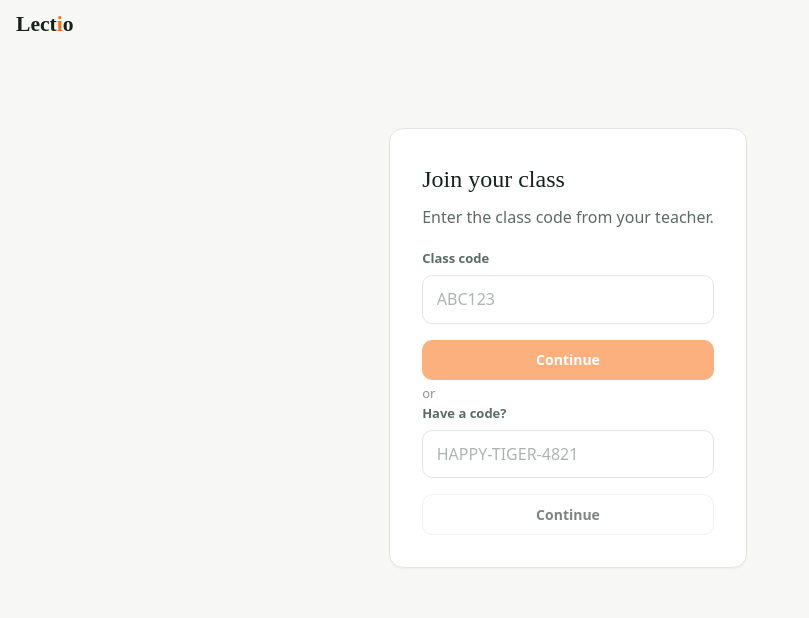
JoinClass code resume › shows a generic message on 404
Type "NOPE-AAAA" into the field with placeholder "HAPPY-TIGER-4821".
click(568, 454); type("NOPE-AAAA")  # box x1=422 y1=430 x2=714 y2=478
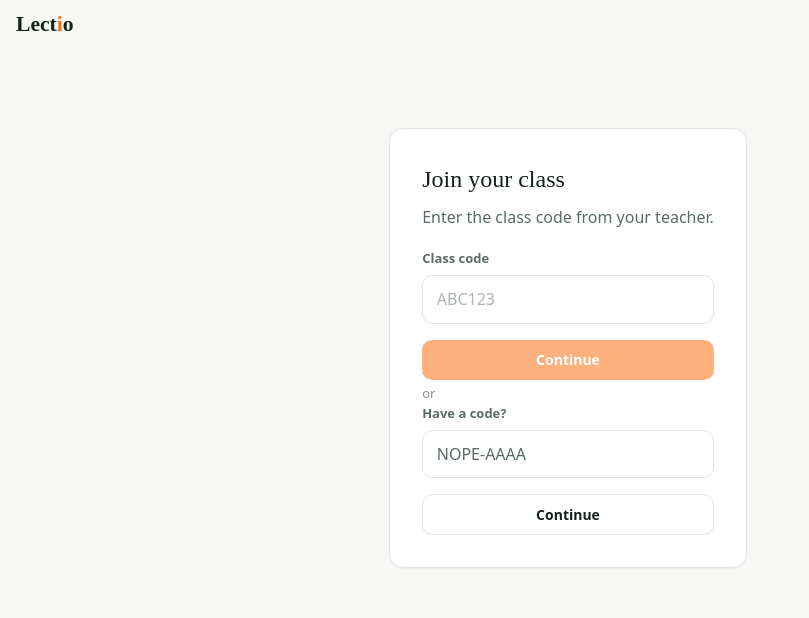
Click the button "Continue" below "Have a code?".
click(568, 514)  # box x1=422 y1=494 x2=714 y2=535
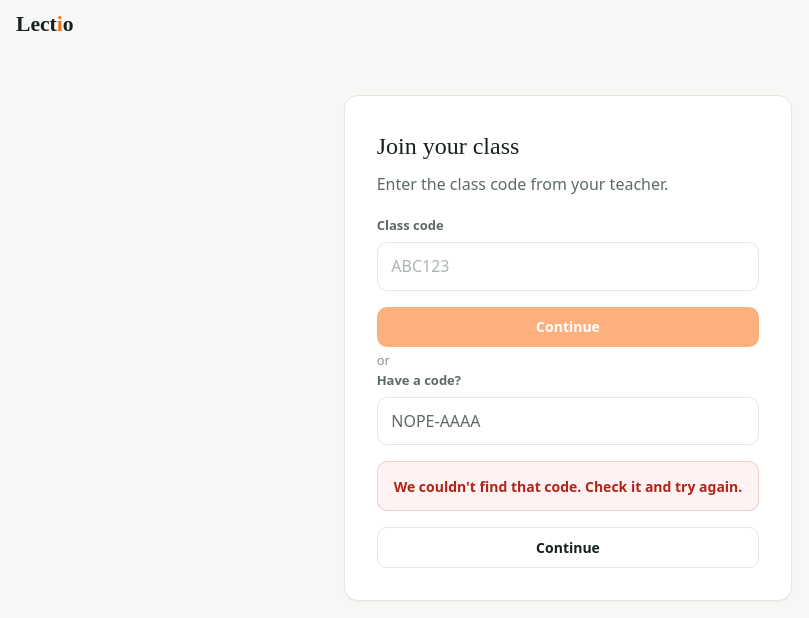
Result: the text "We couldn't find that code. Check it and try again." is shown at x1=394 y1=477 x2=742 y2=496
